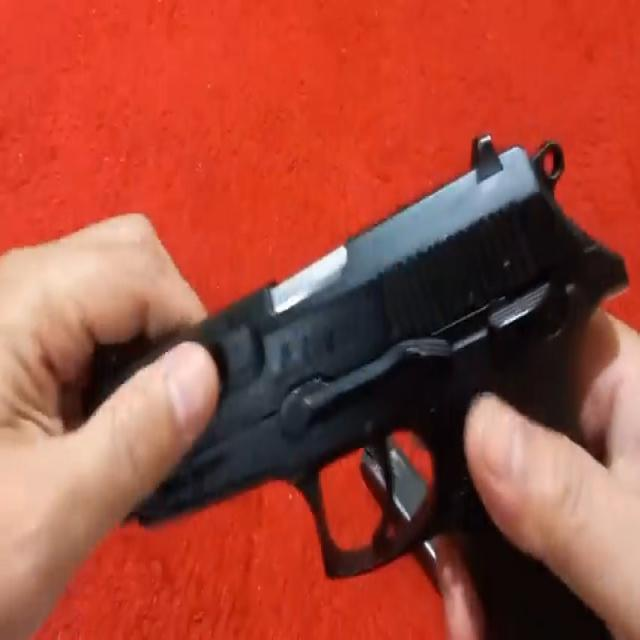handgun: (105, 109, 632, 630)
